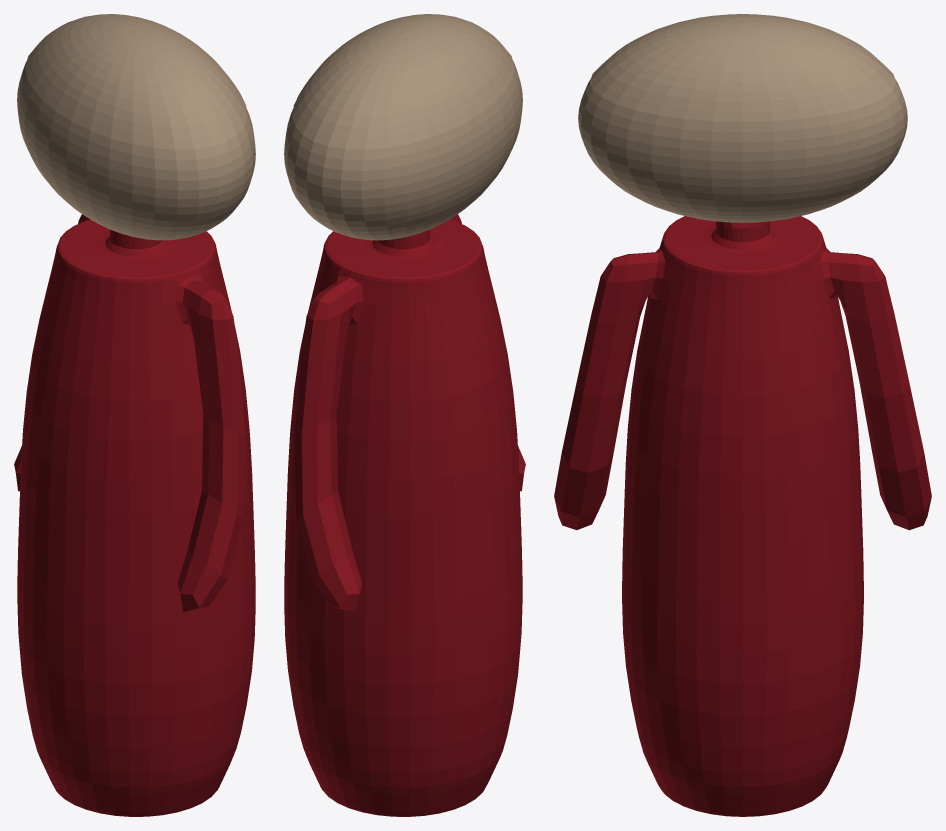
The model's file is seeker_crouching_body.glb.
3 views of the same model, side by side, from view 1: azimuth 30°, elevation 25°; view 2: azimuth 150°, elevation 25°; view 3: azimuth 270°, elevation 25° (orthographic).
Parts seen in each view (by area): view 1: seeker_crouching; view 2: seeker_crouching; view 3: seeker_crouching.
Boxes of the visible parts, bbox=[...] form: seeker_crouching: bbox=[14, 14, 255, 816]; seeker_crouching: bbox=[284, 14, 525, 816]; seeker_crouching: bbox=[554, 14, 931, 816].
Bounding box in the file's own units: 0.5722 × 1.98 × 0.8942.
1 material, 1 textured.
